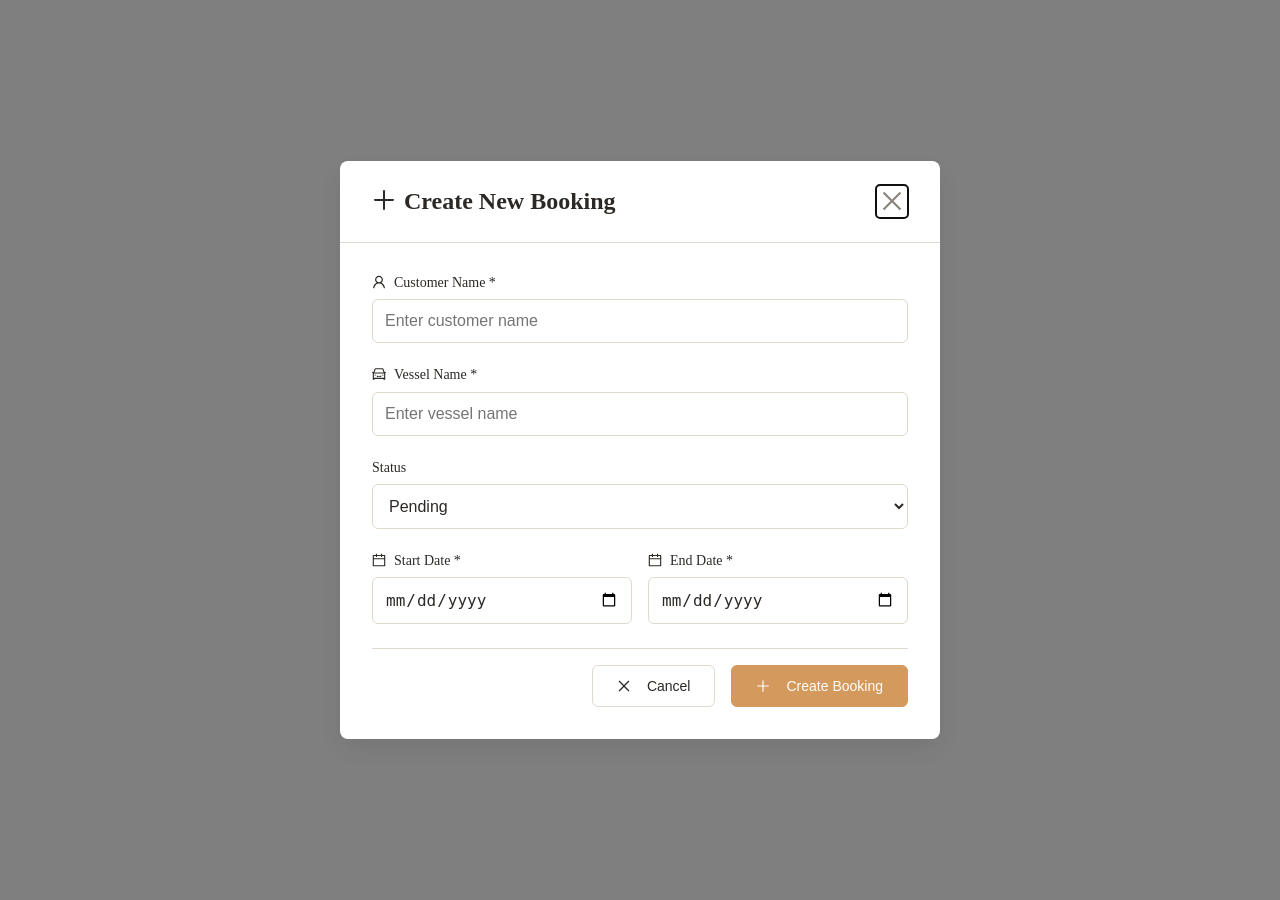
Test: CreateBookingForm › Form Submission › handles submission errors gracefully
The width and height of the screenshot is (1280, 900).
// Fill valid form data
Type "Test Customer" into the field labelled "Customer Name *".
click(640, 321); type("Test Customer")  # box [372,299,908,343]
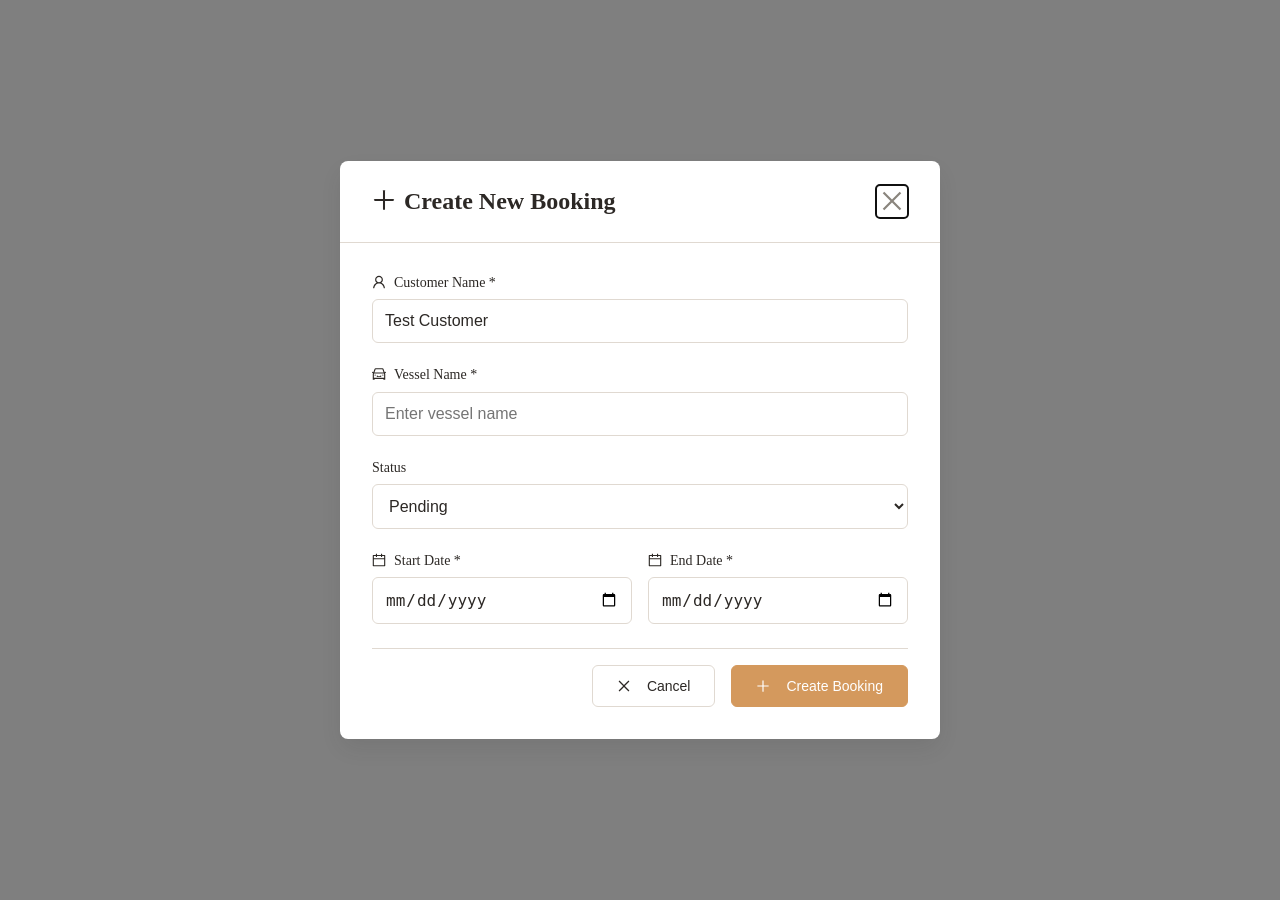
Type "Test Vessel" into the field labelled "Vessel Name *".
click(640, 414); type("Test Vessel")  # box [372,392,908,436]
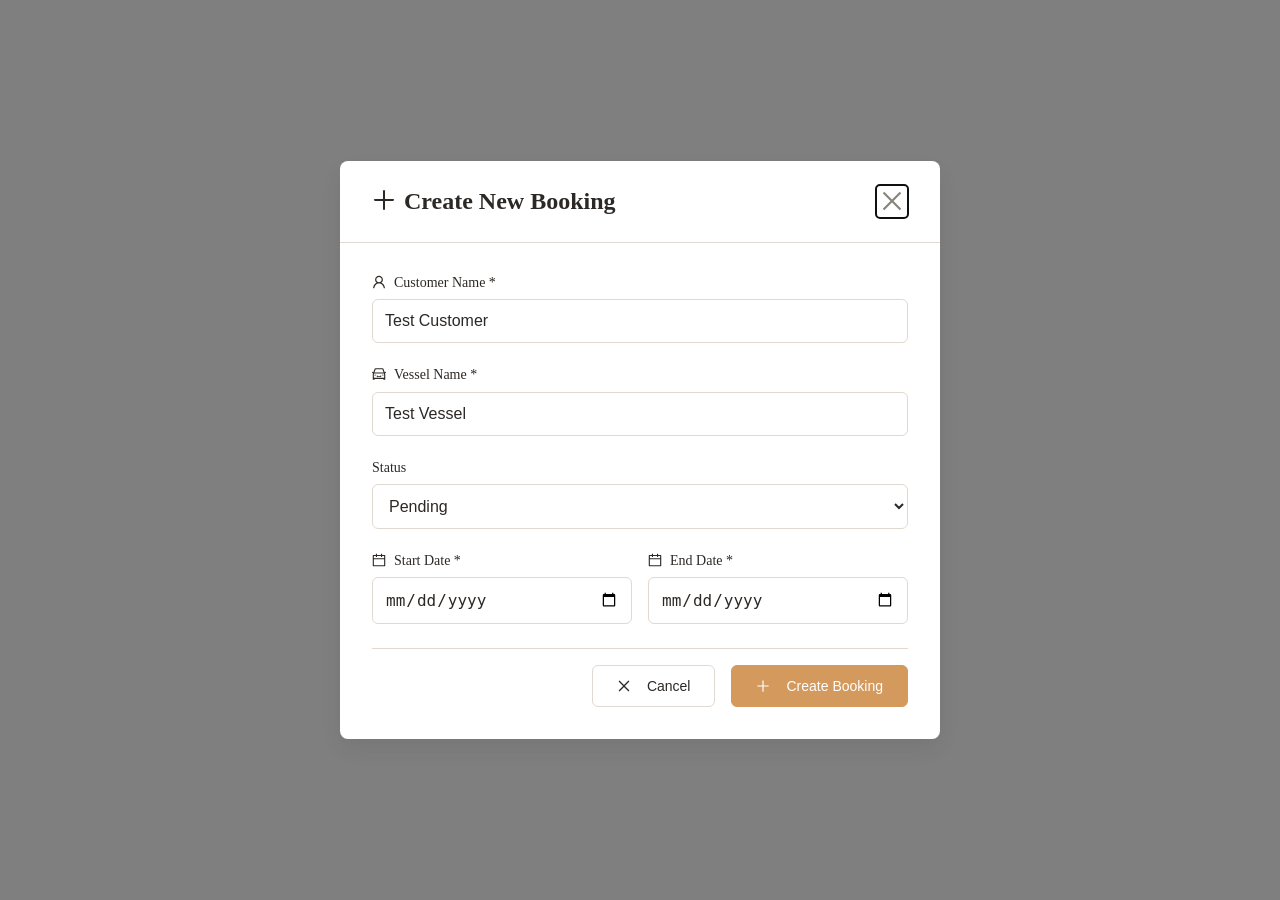
Type "2026-02-10" into the date field labelled "Start Date *".
click(502, 600); type("2026-02-10")  # box [372,577,632,624]
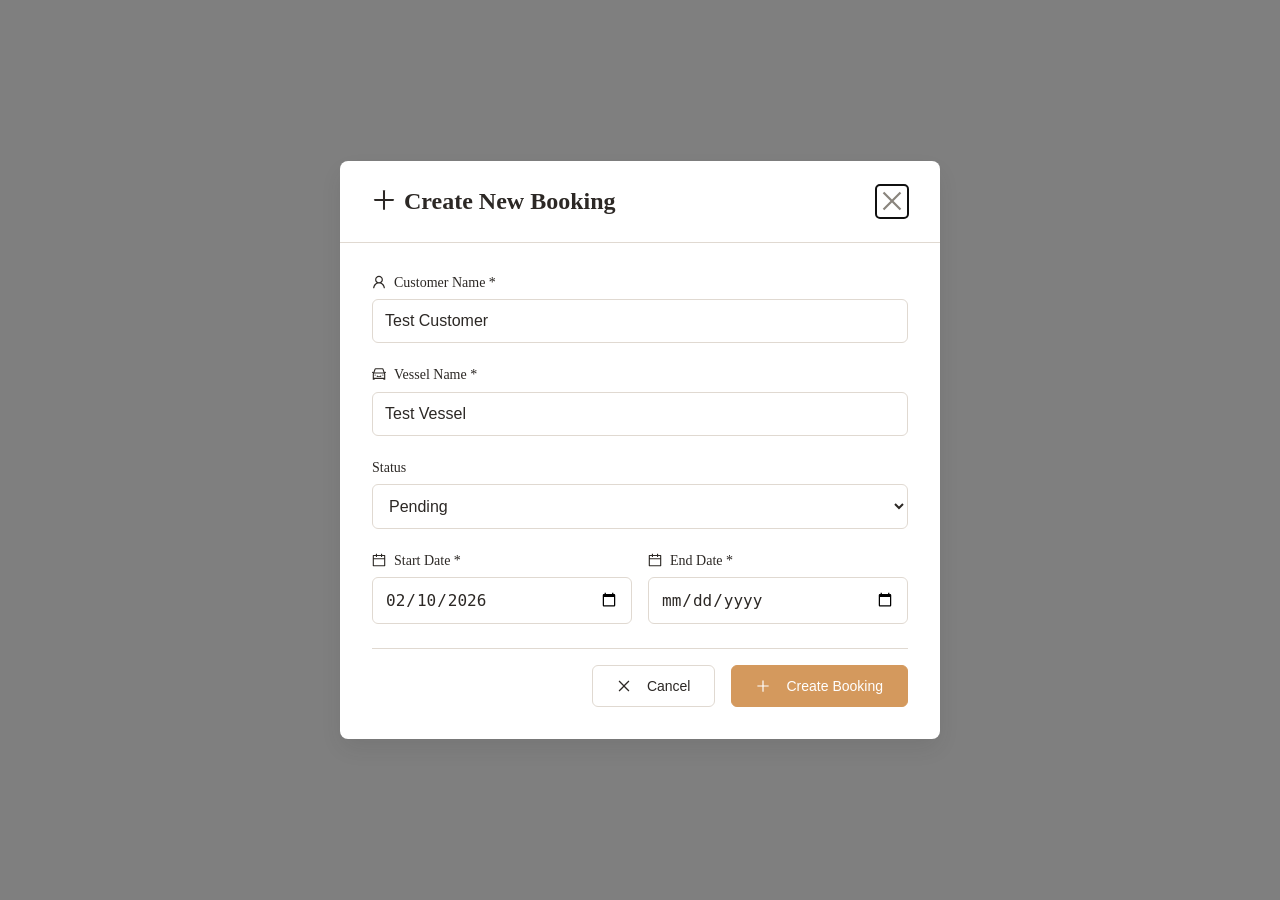
Type "2026-02-15" into the date field labelled "End Date *".
click(778, 600); type("2026-02-15")  # box [648,577,908,624]
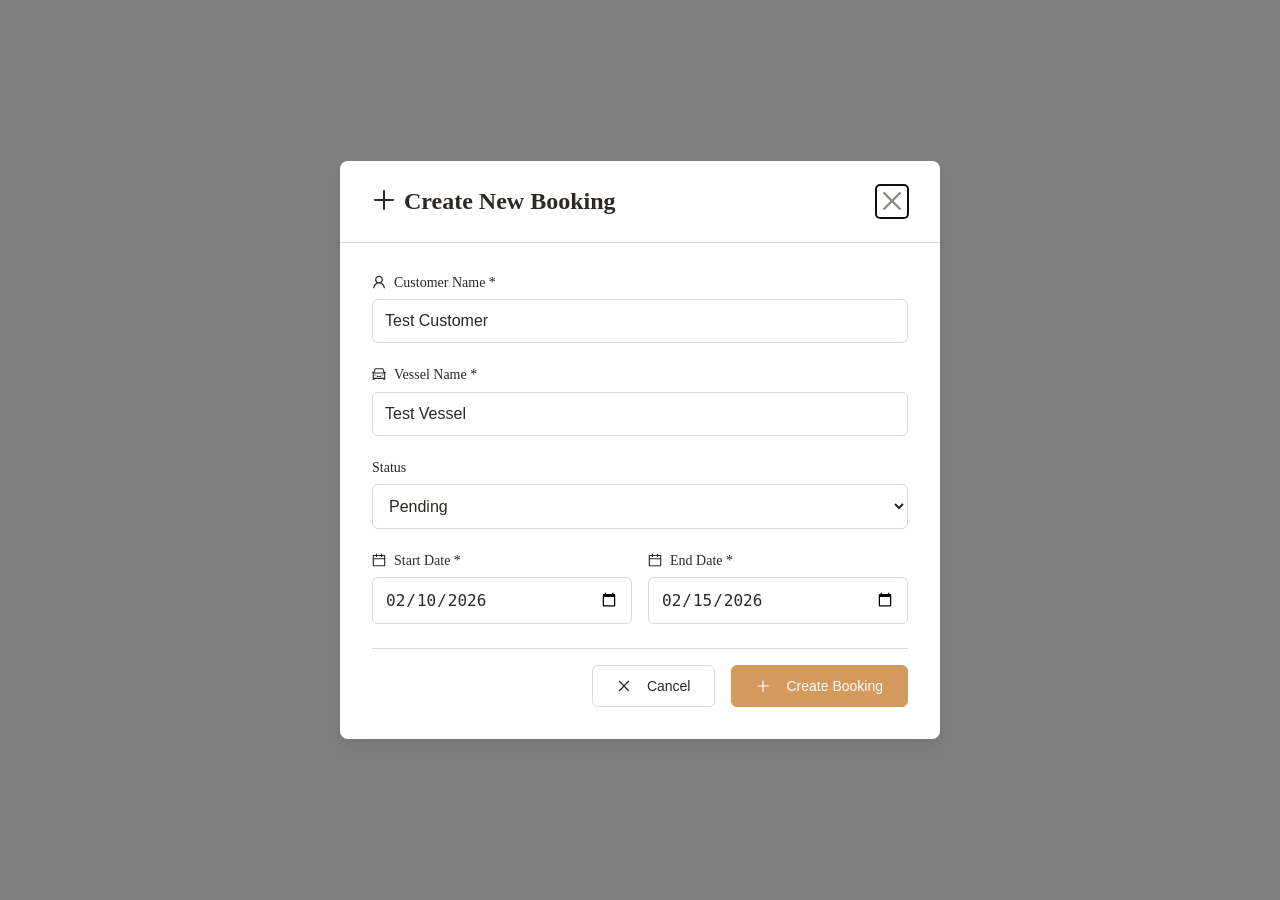
Click the button "Create Booking".
click(820, 686)  # box [732,665,908,707]
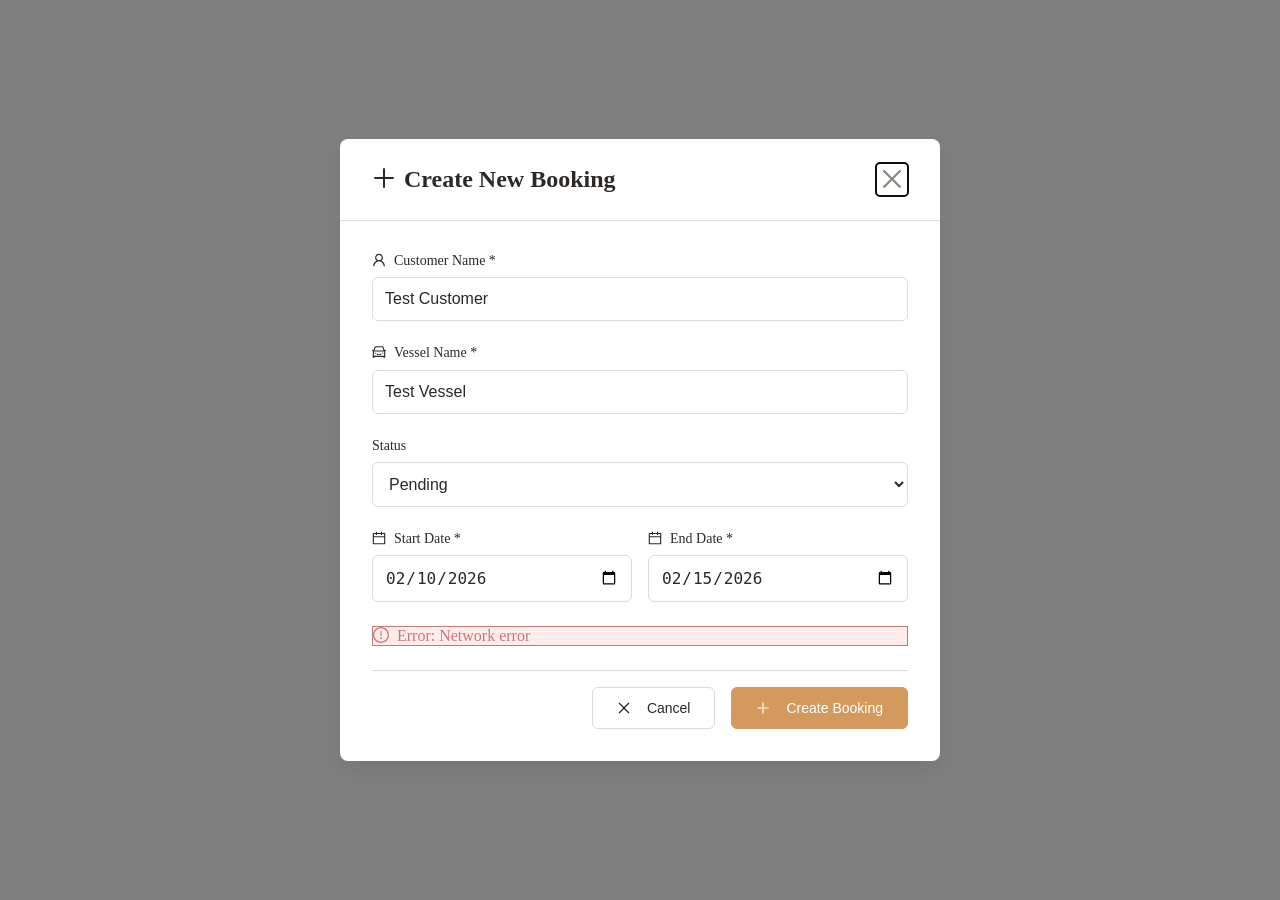
Expected: the text "Error: Network error" is shown, [372,626,908,646]
